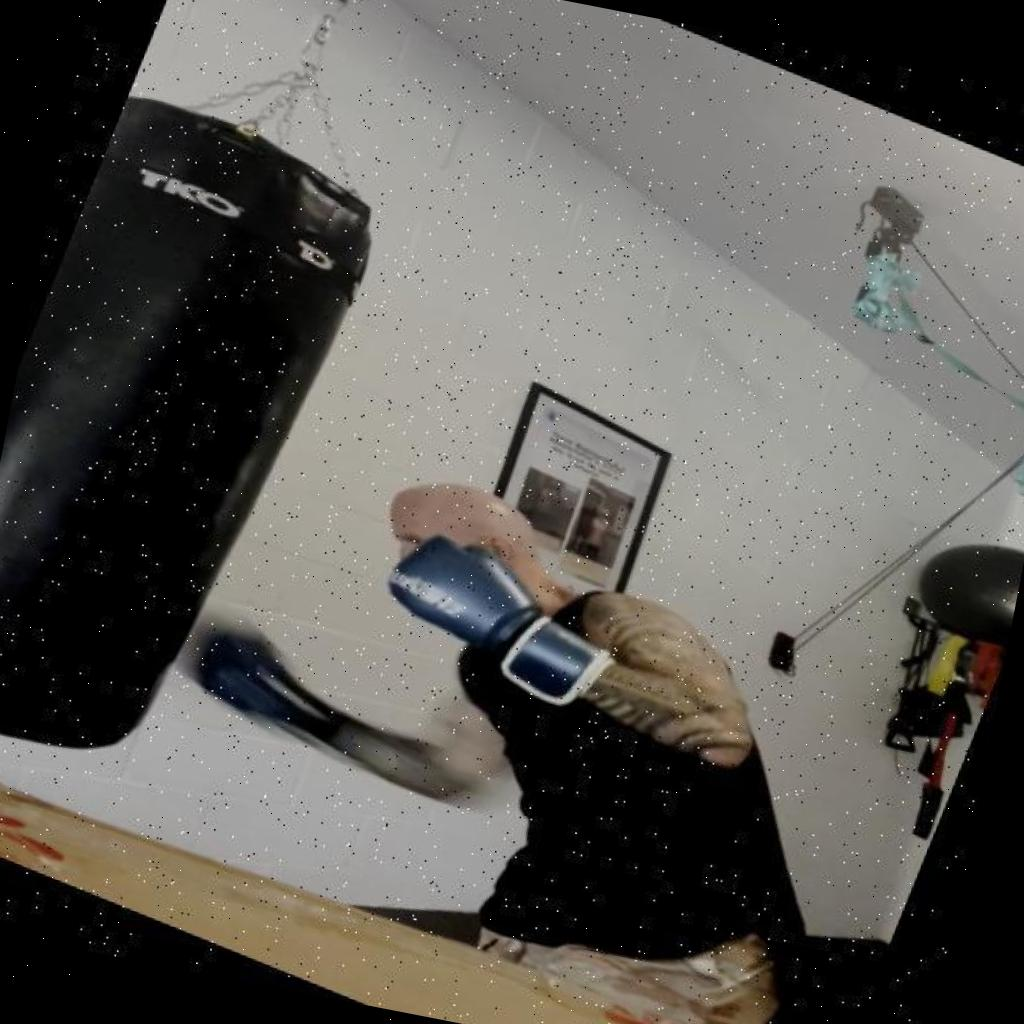bag: (0, 74, 395, 813)
uppercut: (134, 572, 644, 921)
